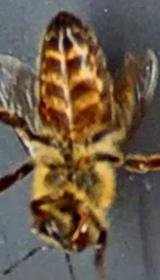varroa_mite: (29, 98, 62, 129)
